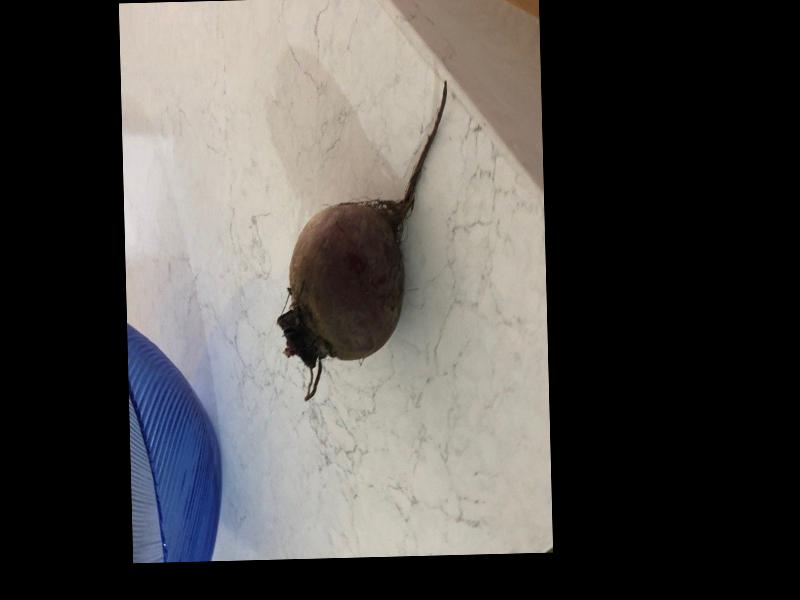Beet: (272, 82, 456, 399)
